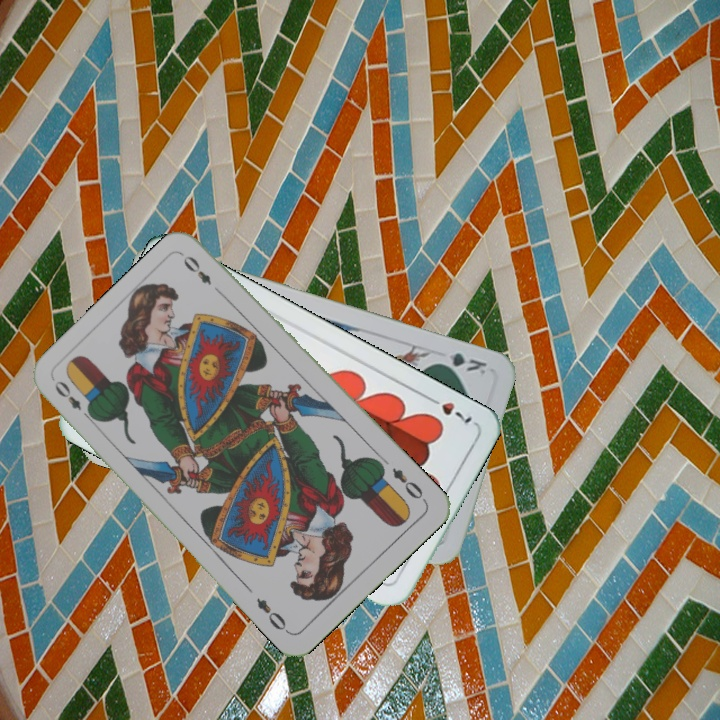EO: (50, 376, 96, 424), (388, 463, 429, 505)
GK: (431, 348, 490, 379)
H7: (422, 392, 475, 427)
